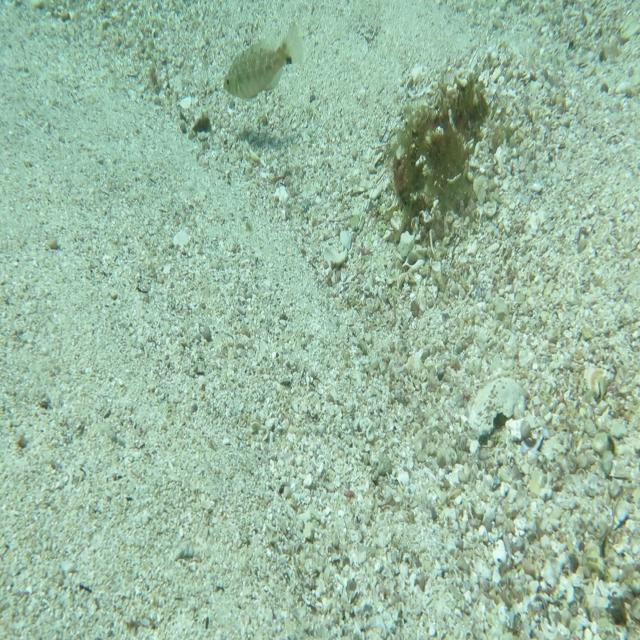SA: (221, 18, 306, 106)
core_nest: (444, 90, 478, 126)
nest: (390, 64, 489, 255)
vegetation: (190, 111, 212, 142), (148, 61, 164, 93)
